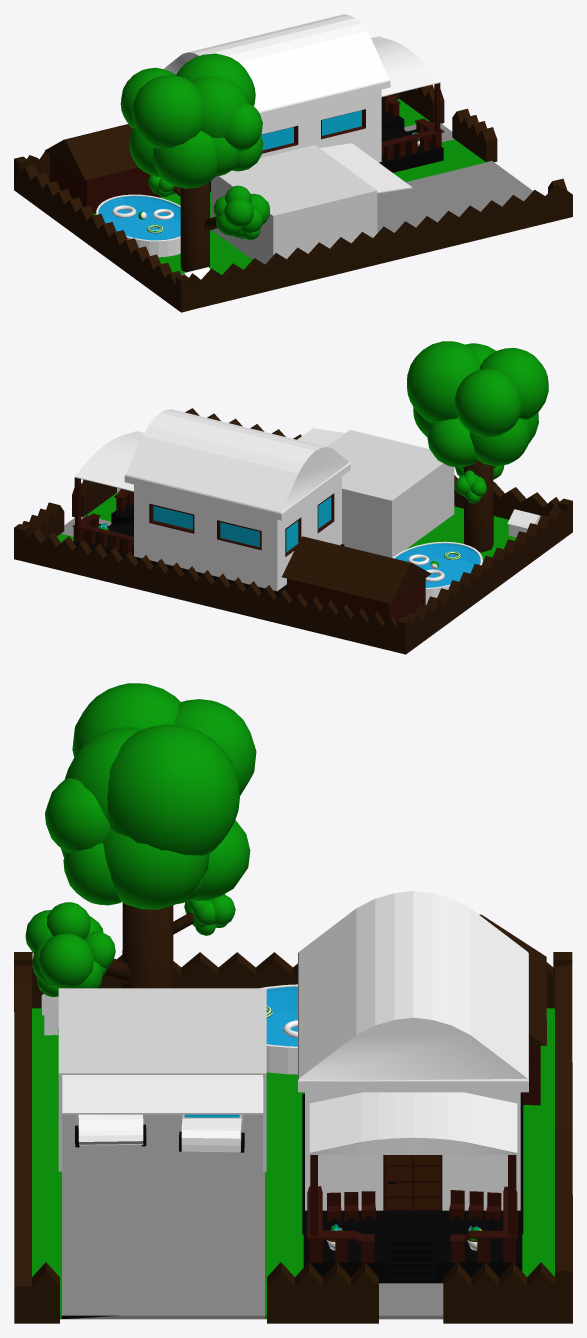
Rendered from House1.fbx.
3 renders of one model, top to bottom at view 1: azimuth 30°, elevation 25°; view 2: azimuth 150°, elevation 25°; view 3: azimuth 270°, elevation 25°, orthographic. The views are drawn at different scales.
Visible parts, largest first — view 1: Cylinder.002; view 2: Cylinder.002; view 3: Cylinder.002.
Boxes of the visible parts, x1=… form: Cylinder.002: x1=14, y1=14, x2=572, y2=312; Cylinder.002: x1=14, y1=341, x2=572, y2=654; Cylinder.002: x1=14, y1=683, x2=572, y2=1323.
Size of the model in its own units: 766 by 371 by 556.
